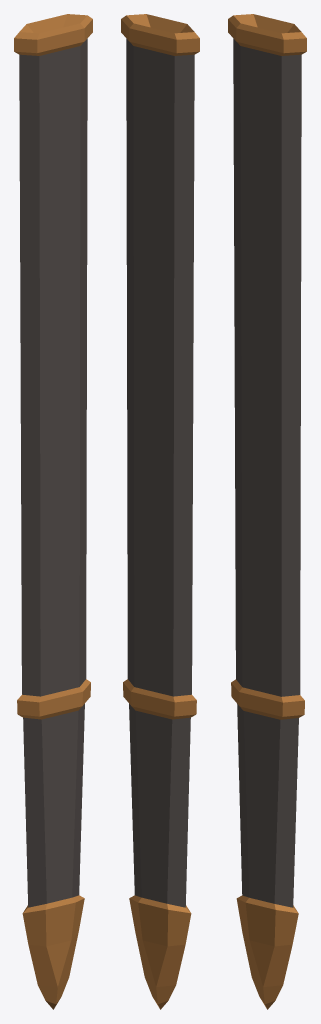
File: SM_pwe_fantasy_sword_scabbard_02.fbx
The picture shows the model from 3 angles, left to right: view 1: azimuth 30°, elevation 25°; view 2: azimuth 150°, elevation 25°; view 3: azimuth 330°, elevation 25°; orthographic projection.
Visible parts, largest first — view 1: SM_pwe_fantasy_sword_scabbard_02; view 2: SM_pwe_fantasy_sword_scabbard_02; view 3: SM_pwe_fantasy_sword_scabbard_02.
Part boxes in pixels (x1,y1,x2,y2): SM_pwe_fantasy_sword_scabbard_02: [14, 14, 92, 1009]; SM_pwe_fantasy_sword_scabbard_02: [121, 14, 199, 1009]; SM_pwe_fantasy_sword_scabbard_02: [228, 14, 306, 1009].
Bounding box in the file's own units: 7.95 × 94.92 × 2.58.
